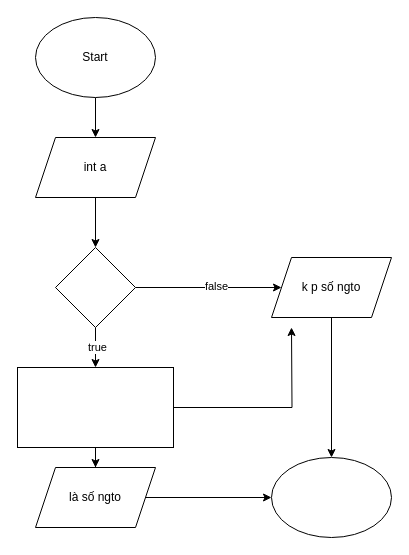
Image size: 409x555. Some labels were removed from this diagram. Each missing label, with the centre of its shape:
a>1: the point at 95,287
for (int i = 2; i * i <= n; i++) { if (n % i == 0) { return false; } }: the point at 95,407
